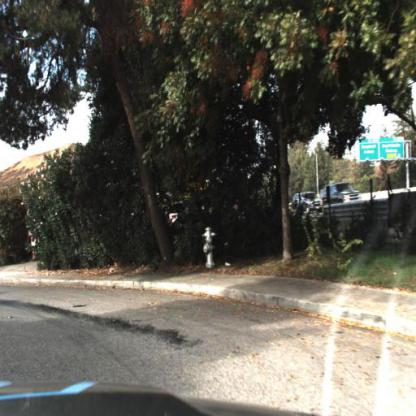car: (321, 183, 363, 209), (293, 192, 323, 215)
